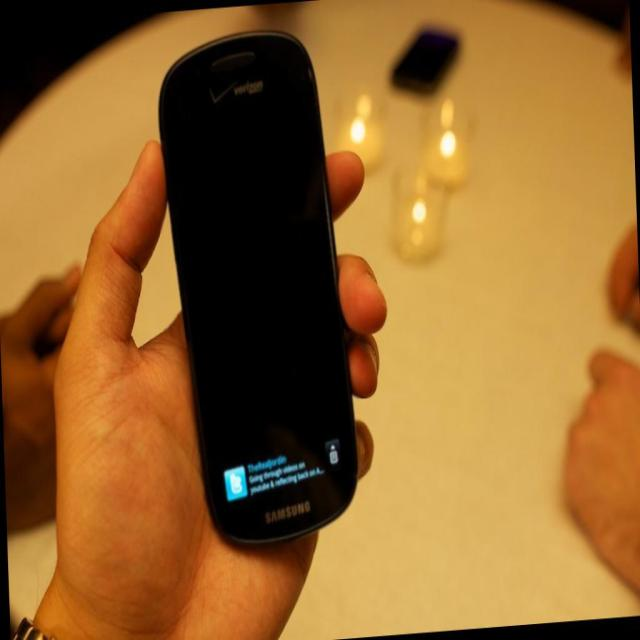handphone: (167, 41, 353, 550)
